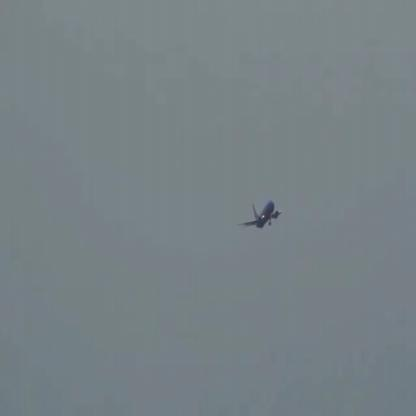CIV_Plane: (237, 198, 284, 232)
